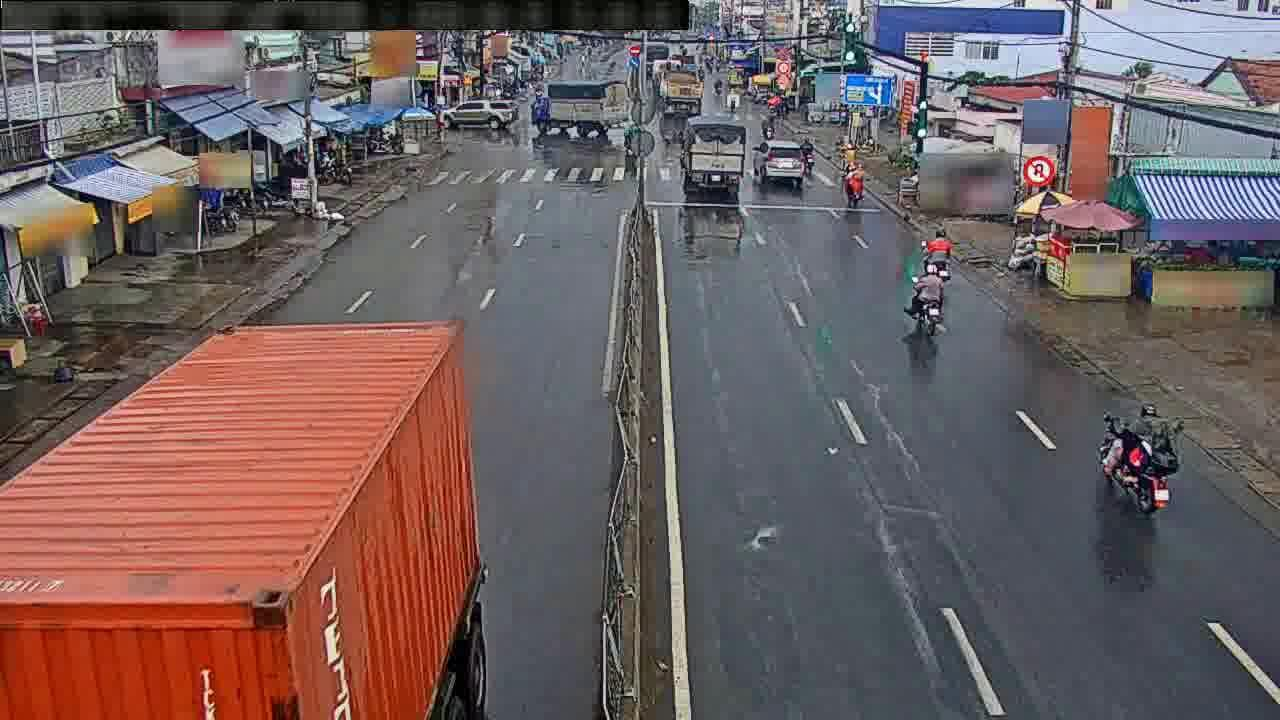car: (751, 131, 804, 189), (441, 99, 516, 134)
container: (0, 313, 471, 720), (532, 77, 628, 141), (684, 110, 742, 201)
motorbike: (1103, 403, 1179, 510), (907, 263, 945, 342), (919, 221, 957, 283), (841, 158, 866, 205)
